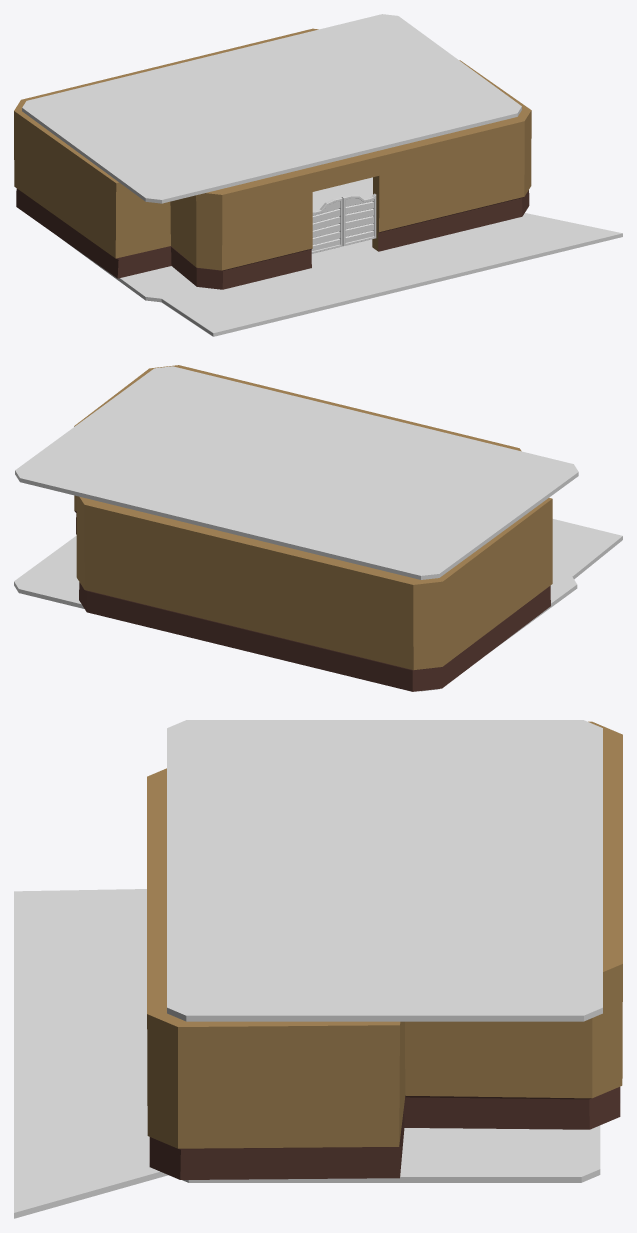
File: room.fbx
3 views of the same model, one above another, from view 1: azimuth 30°, elevation 25°; view 2: azimuth 150°, elevation 25°; view 3: azimuth 270°, elevation 25° (orthographic). The views are drawn at different scales.
Visible parts, largest first — view 1: floor, room, roof, right door, left door; view 2: floor, room, roof; view 3: floor, room, roof.
Boxes of the visible parts, box(x1,y1,x2,y2) form: floor: box(22, 14, 521, 203); room: box(14, 28, 531, 289); roof: box(63, 177, 622, 336); right door: box(341, 193, 376, 246); left door: box(311, 197, 342, 253); floor: box(15, 366, 578, 579); room: box(74, 365, 552, 691); roof: box(14, 519, 622, 691); floor: box(167, 720, 602, 1021); room: box(147, 721, 622, 1179); roof: box(14, 889, 600, 1218).
Bounding box in the file's own units: 4693 × 1076 × 3581.
